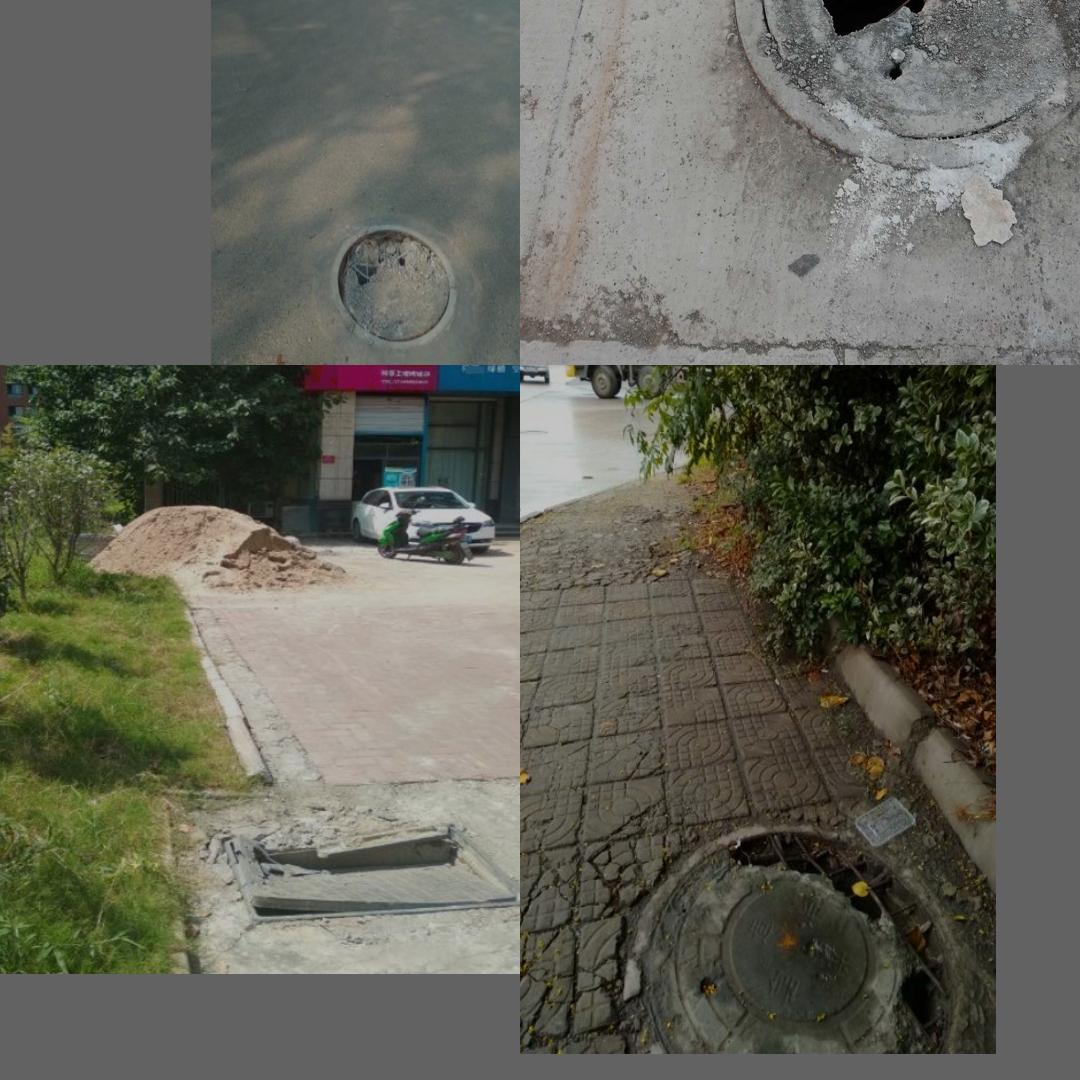broke: (616, 821, 957, 1054), (734, 0, 1080, 166), (211, 824, 516, 910), (331, 222, 456, 349)
